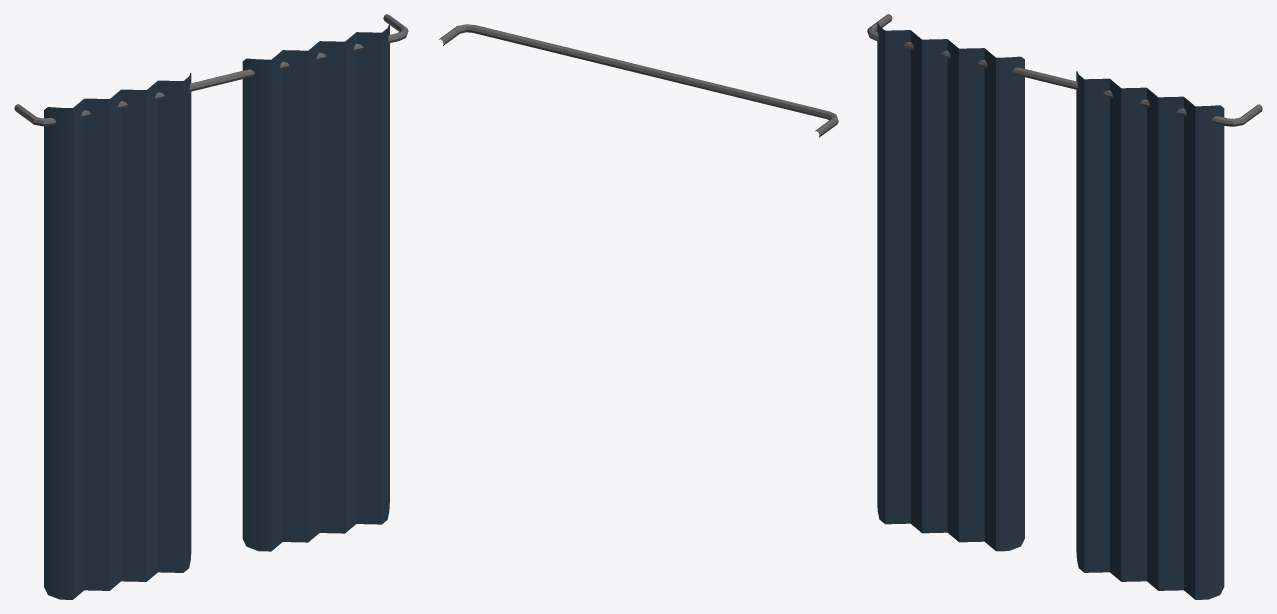
Rendered from Curtains_Double.glb.
The picture shows the model from 3 angles, left to right: view 1: azimuth 30°, elevation 25°; view 2: azimuth 150°, elevation 25°; view 3: azimuth 330°, elevation 25°; orthographic projection.
Visible parts, largest first — view 1: Curtains_Double_Cylinder.032; view 2: Curtains_Double_Cylinder.032; view 3: Curtains_Double_Cylinder.032.
Boxes of the visible parts, left/top/right/bottom form: Curtains_Double_Cylinder.032: left=14, top=14, right=408, bottom=599; Curtains_Double_Cylinder.032: left=438, top=24, right=838, bottom=137; Curtains_Double_Cylinder.032: left=867, top=14, right=1262, bottom=599.
Size of the model in its own units: 3.47 by 4.34 by 0.4763.
